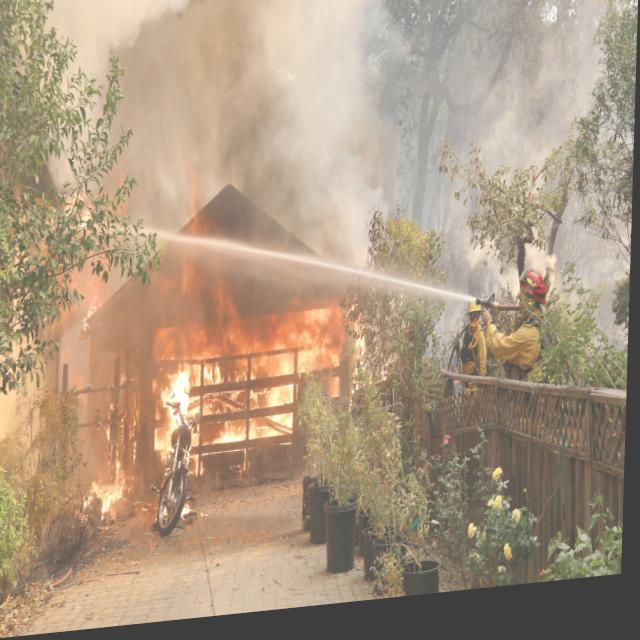Fire: (98, 242, 374, 543), (36, 157, 130, 280)
